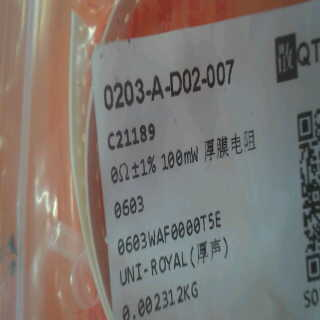0R: (107, 149, 160, 220)
